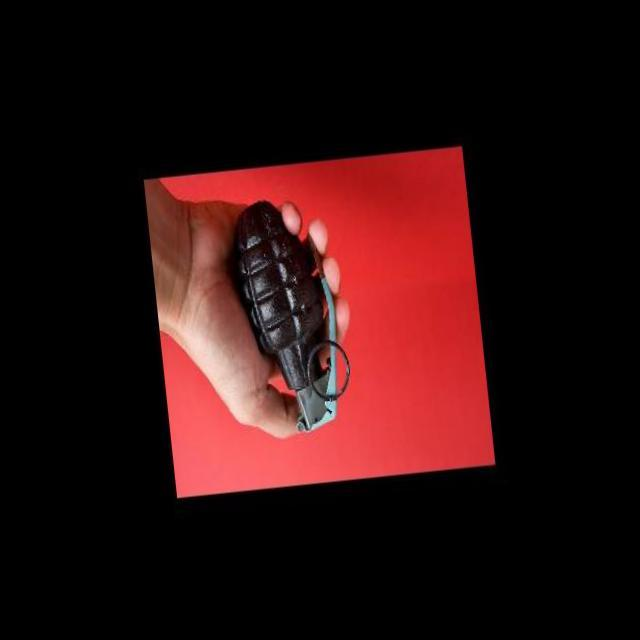grenade: (219, 180, 357, 448)
